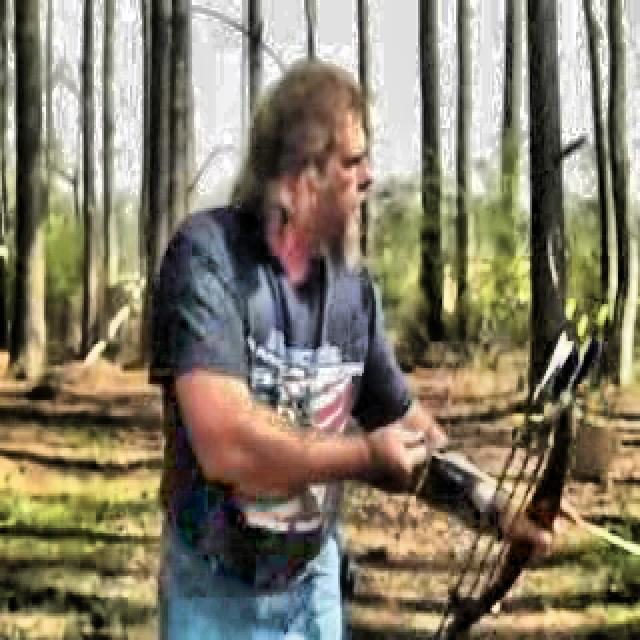I: (147, 51, 599, 640)
